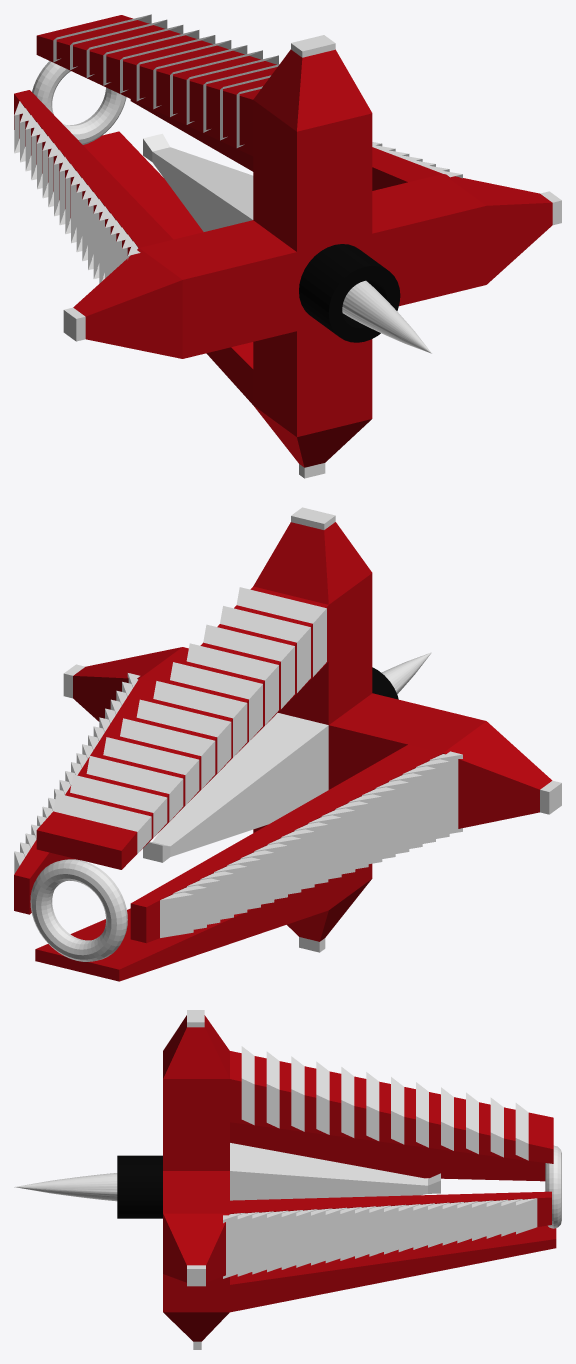
The model's file is enemyblaster.fbx.
3 views of the same model, one above another, from view 1: azimuth 30°, elevation 25°; view 2: azimuth 150°, elevation 25°; view 3: azimuth 270°, elevation 25° (orthographic). The views are drawn at different scales.
Visible parts, largest first — view 1: Blau 1; view 2: Blau 1; view 3: Blau 1.
Boxes of the visible parts, x1,y1,x2,y2 form: Blau 1: (14, 14, 561, 478); Blau 1: (14, 507, 561, 981); Blau 1: (14, 1010, 561, 1349).
Bounding box in the file's own units: 1285 × 1091 × 1643.
